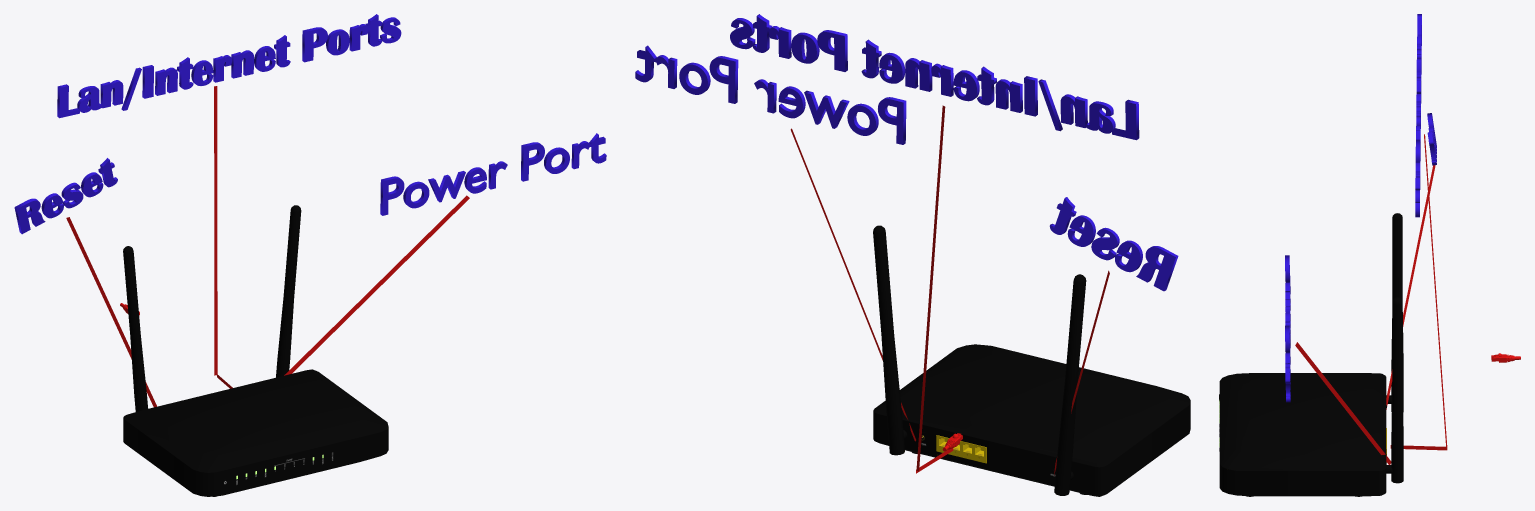
Rendered from move.gltf.
3 renders of one model, left to right at view 1: azimuth 30°, elevation 25°; view 2: azimuth 150°, elevation 25°; view 3: azimuth 270°, elevation 25°, orthographic. The views are drawn at different scales.
Parts seen in each view (by area): view 1: Router, Text, Text.002, Text.001, NurbsPath.003, NurbsPath.001, NurbsPath.002; view 2: Router, Text, Text.002, Text.001, NurbsPath.001, NurbsPath.003; view 3: Router, Text, Text.002, NurbsPath.003, NurbsPath.001, NurbsPath.002, Text.001.
Part boxes in pixels (box(x1,y1,x2,y2)): Router: box(123, 205, 388, 496); Text: box(57, 14, 401, 118); Text.002: box(380, 133, 606, 215); Text.001: box(14, 158, 117, 234); NurbsPath.003: box(284, 195, 469, 375); NurbsPath.001: box(214, 86, 217, 375); NurbsPath.002: box(66, 217, 156, 407); Router: box(873, 225, 1190, 496); Text: box(730, 14, 1139, 140); Text.002: box(635, 45, 906, 144); Text.001: box(1049, 197, 1178, 291); NurbsPath.001: box(916, 105, 945, 471); NurbsPath.003: box(790, 128, 915, 441); Router: box(1219, 213, 1403, 496); Text: box(1415, 14, 1421, 217); Text.002: box(1285, 255, 1290, 402); NurbsPath.003: box(1295, 342, 1391, 464); NurbsPath.001: box(1424, 134, 1447, 447); NurbsPath.002: box(1386, 165, 1435, 409); Text.001: box(1427, 113, 1436, 165).
Size of the model in its own units: 2.17 by 1.45 by 1.06.
Materials: 3 (1 with a texture image).
